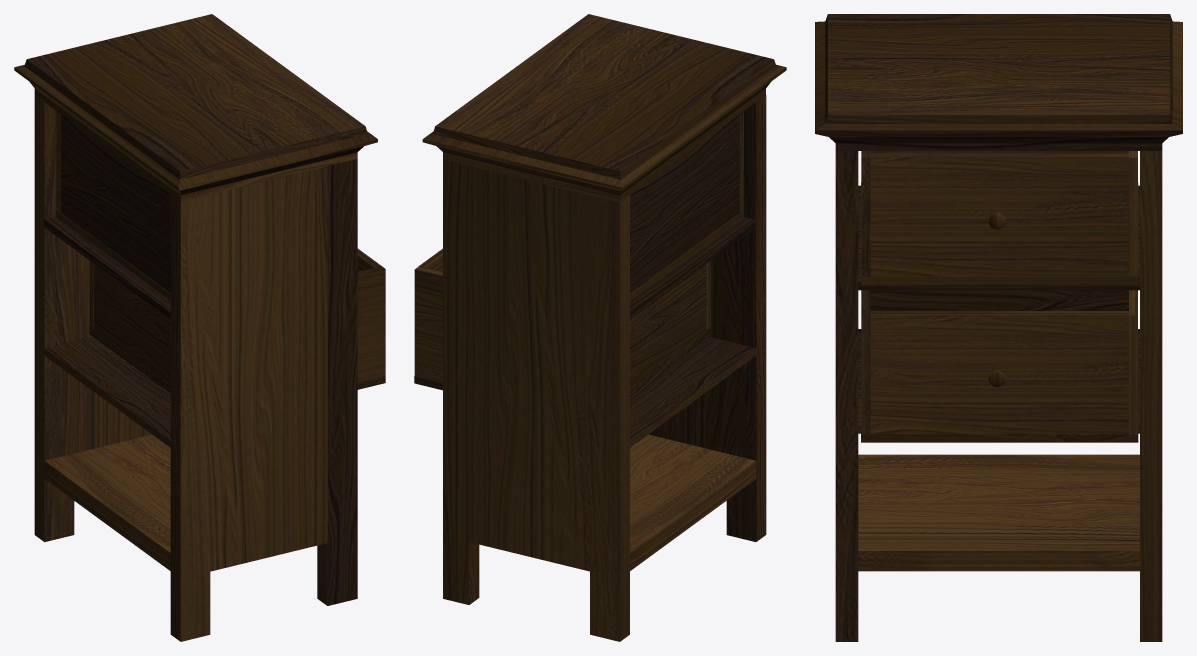
The model's file is ADesk.fbx.
The picture shows the model from 3 angles, left to right: view 1: azimuth 30°, elevation 25°; view 2: azimuth 150°, elevation 25°; view 3: azimuth 270°, elevation 25°; orthographic projection. The views are drawn at different scales.
Visible parts, largest first — view 1: pCube16; view 2: pCube16; view 3: pCube16.
Boxes of the visible parts, left/top/right/bottom form: pCube16: left=14, top=14, right=385, bottom=641; pCube16: left=414, top=14, right=786, bottom=641; pCube16: left=815, top=14, right=1182, bottom=641.
Bounding box in the file's own units: 21.62 × 41.56 × 26.17.
1 material, 1 textured.
